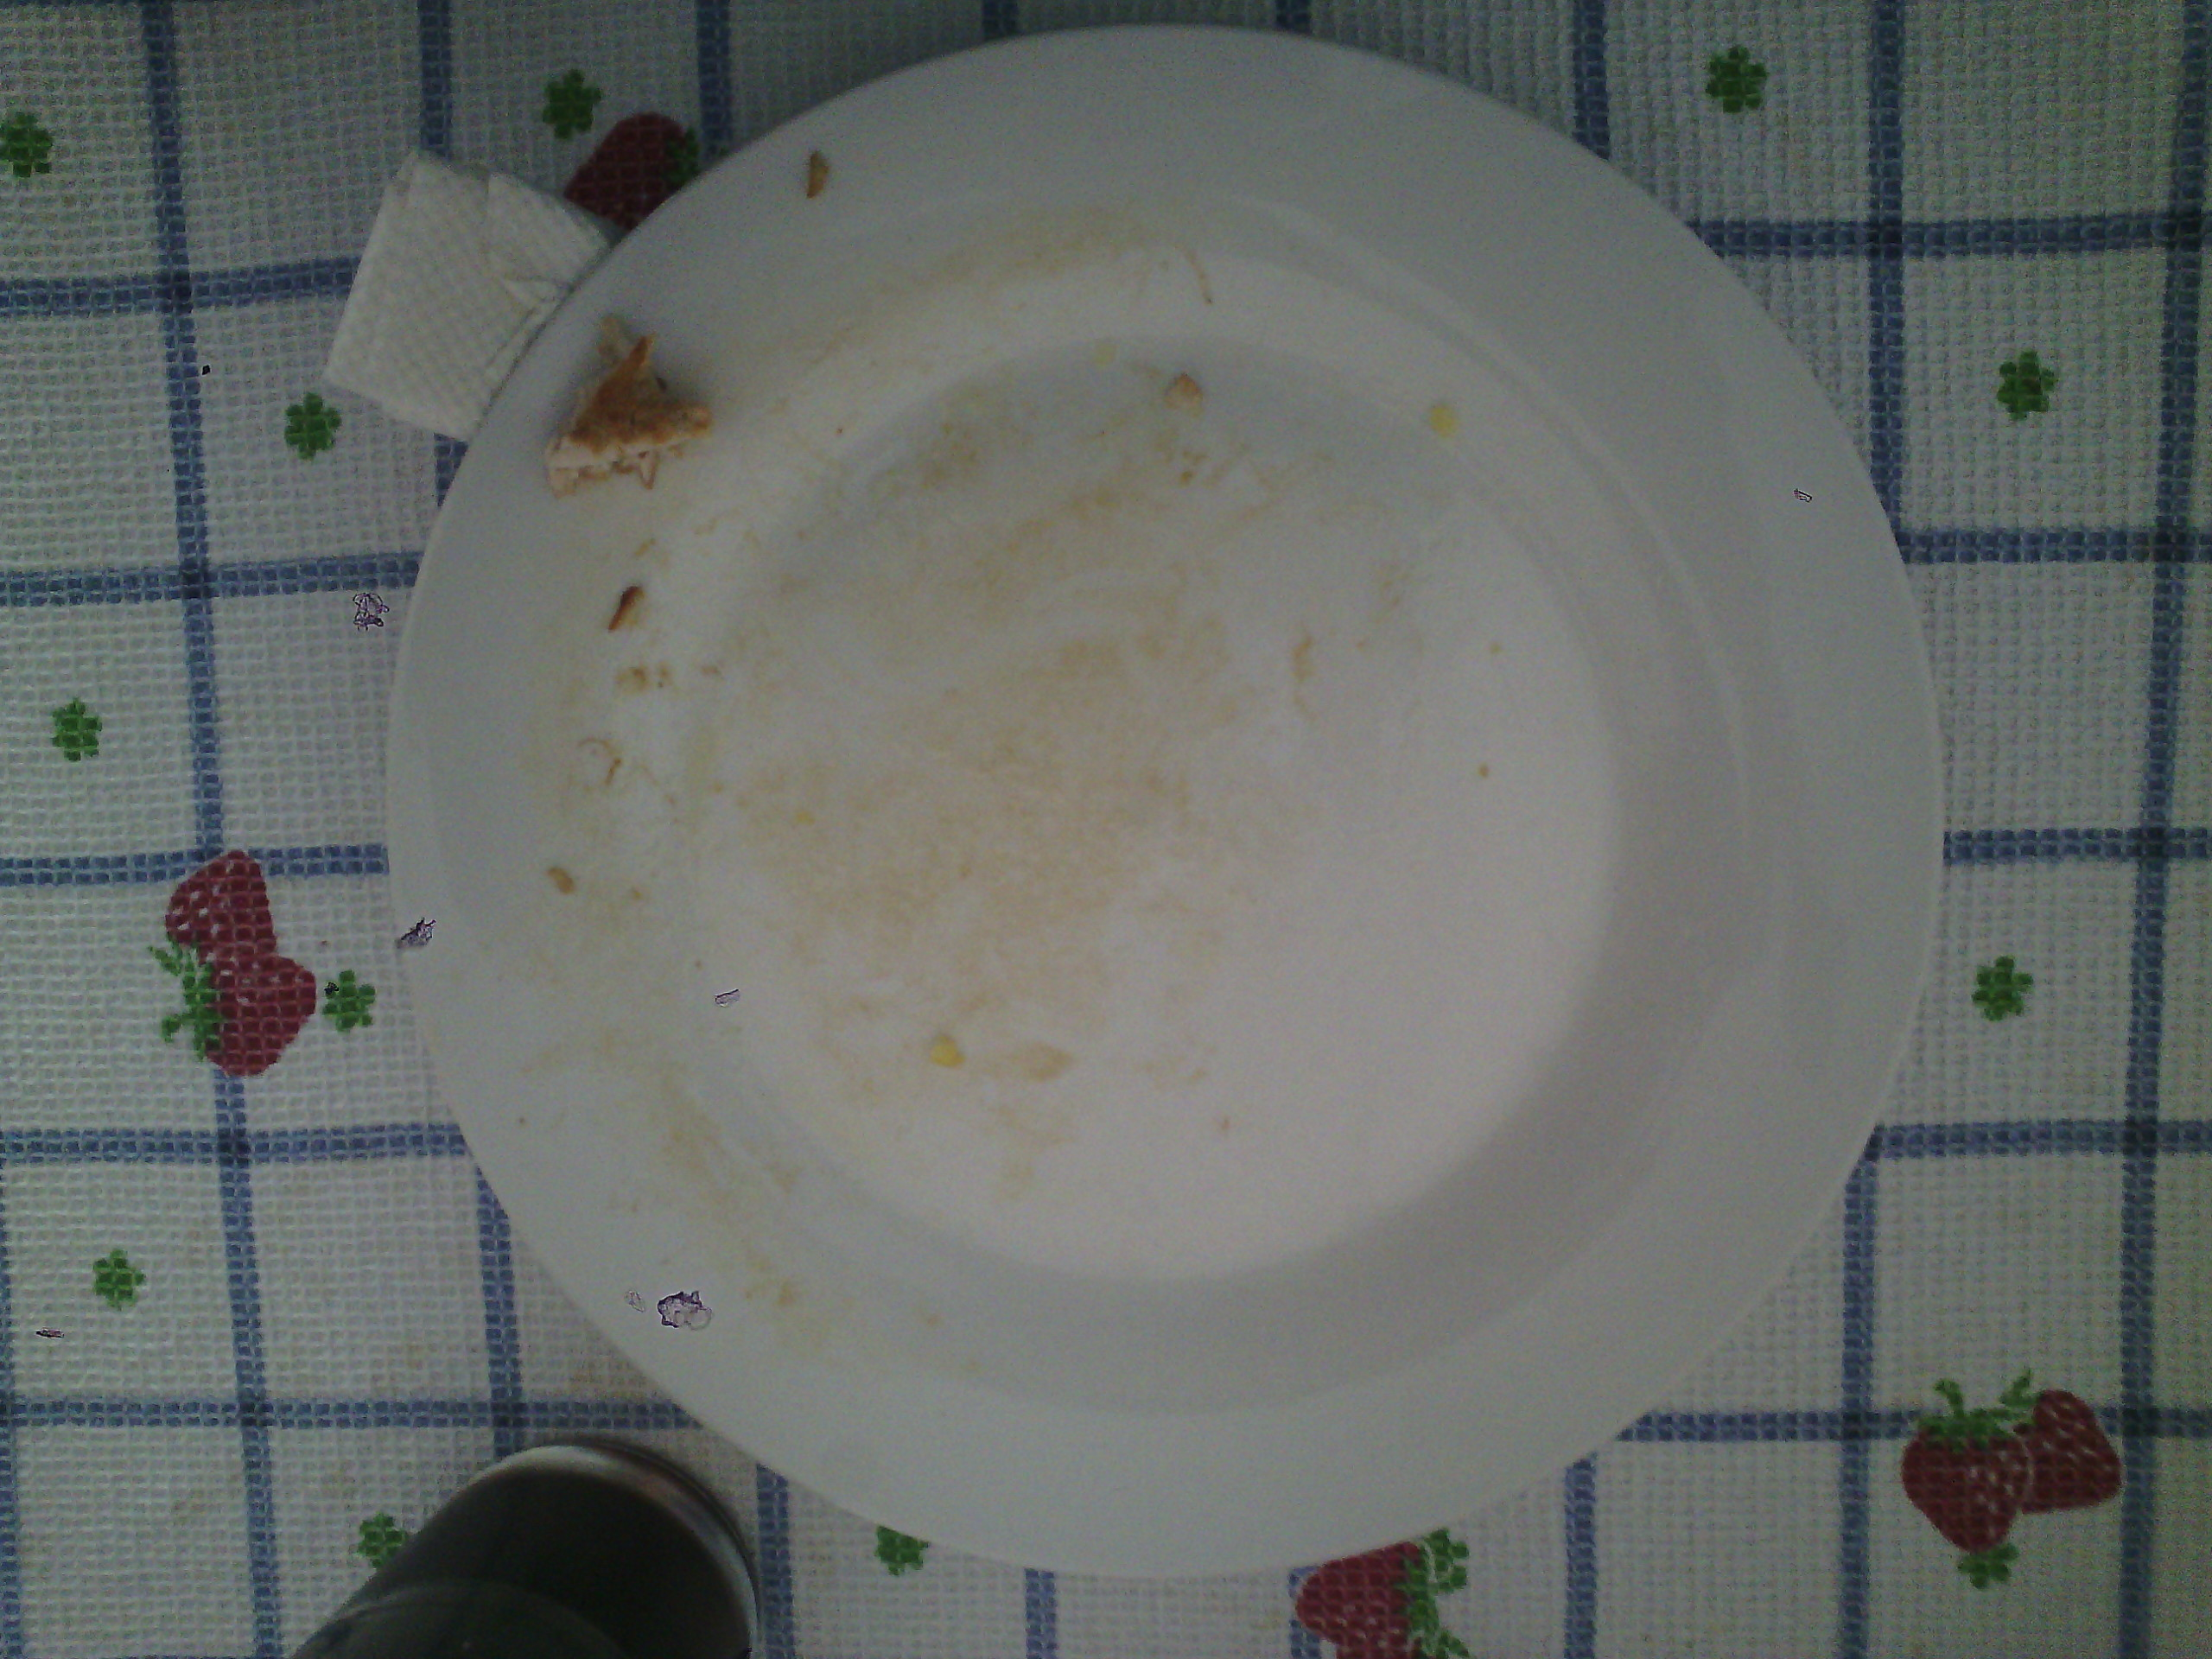0-20: (381, 30, 1944, 1588)
